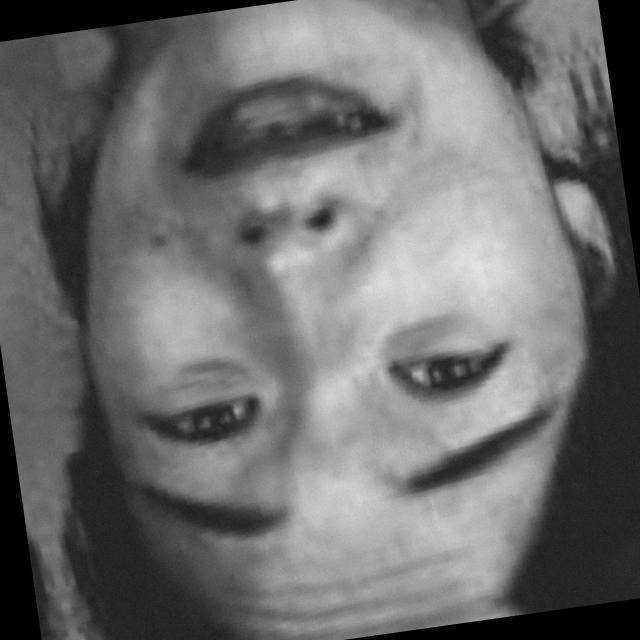fear: (28, 0, 632, 614)
